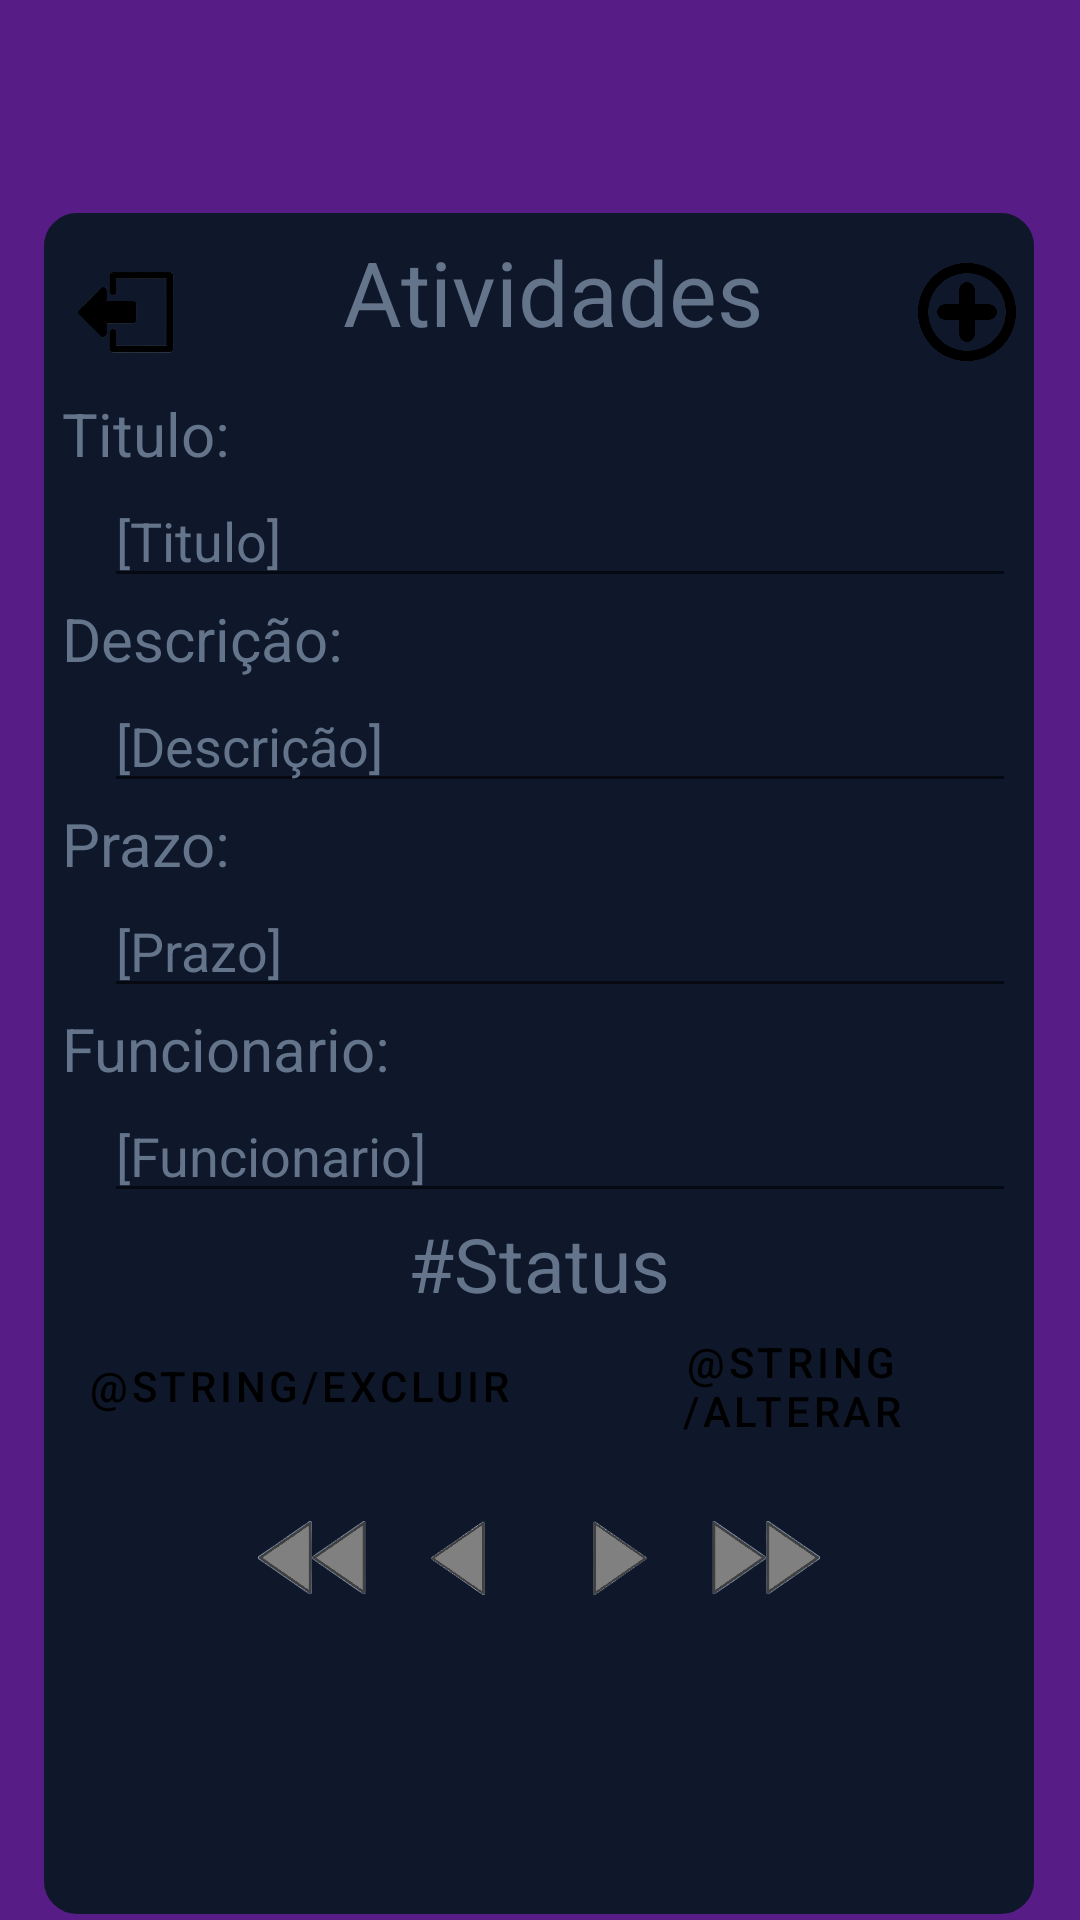

Screen size 1080*1920. Icon name, then its box in pixels as (x1, y1, x2, y2):
adicionar: (918, 263, 1016, 361)
botao anterior: (431, 1521, 485, 1595)
botao primeiro: (258, 1521, 366, 1594)
botao proximo: (593, 1521, 647, 1595)
botao ultimo: (712, 1521, 820, 1594)
sair: (78, 272, 173, 353)
